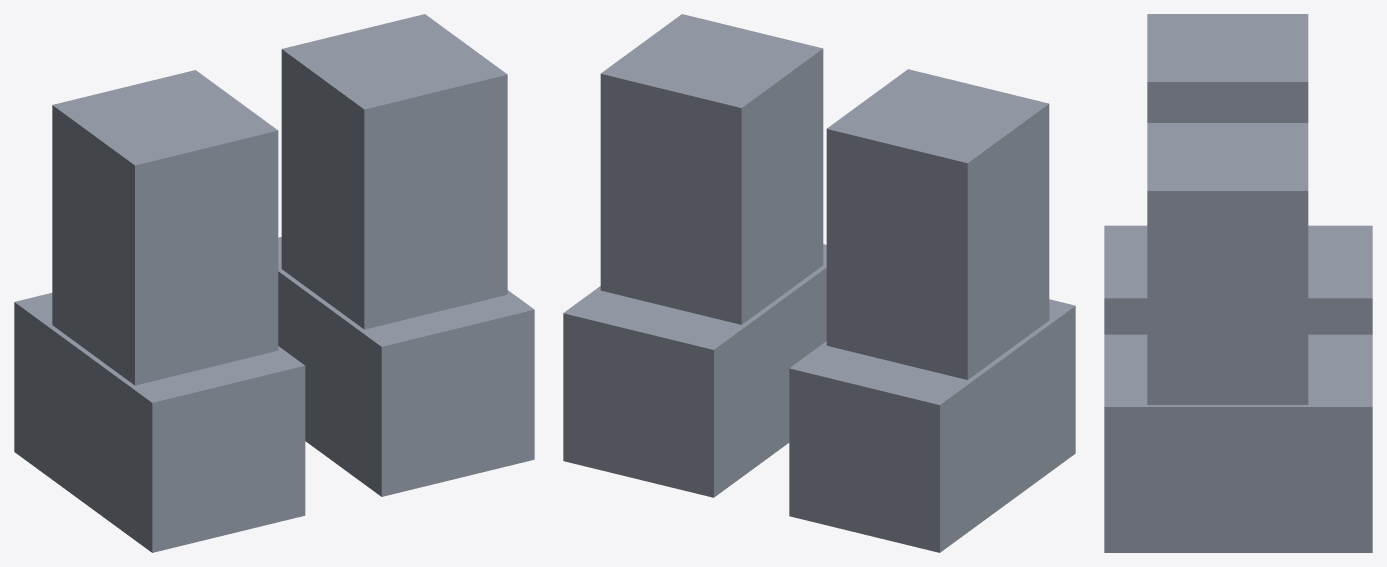
Rendered from boots.glb.
The picture shows the model from 3 angles, left to right: view 1: azimuth 30°, elevation 25°; view 2: azimuth 150°, elevation 25°; view 3: azimuth 270°, elevation 25°; orthographic projection. The views are drawn at different scales.
Parts seen in each view (by area): view 1: BootLeft; view 2: BootLeft; view 3: BootLeft.
Part boxes in pixels (bbox=[...]): BootLeft: bbox=[14, 14, 534, 552]; BootLeft: bbox=[563, 14, 1075, 552]; BootLeft: bbox=[1104, 14, 1372, 552].
Bounding box in the file's own units: 0.8 × 0.74 × 0.5.
